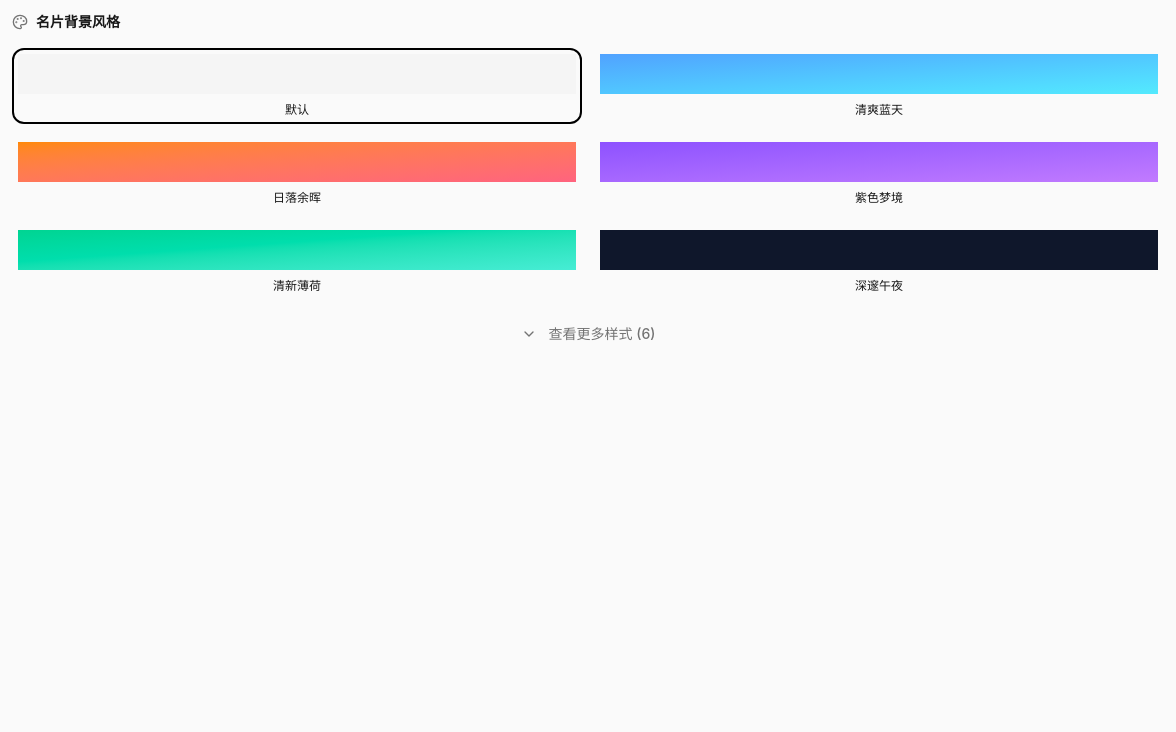
Test: ProfileStylePicker › expands the remaining visual styles
Click the button "查看更多样式 (6)" at (588, 334), box [12,316,1164,352]
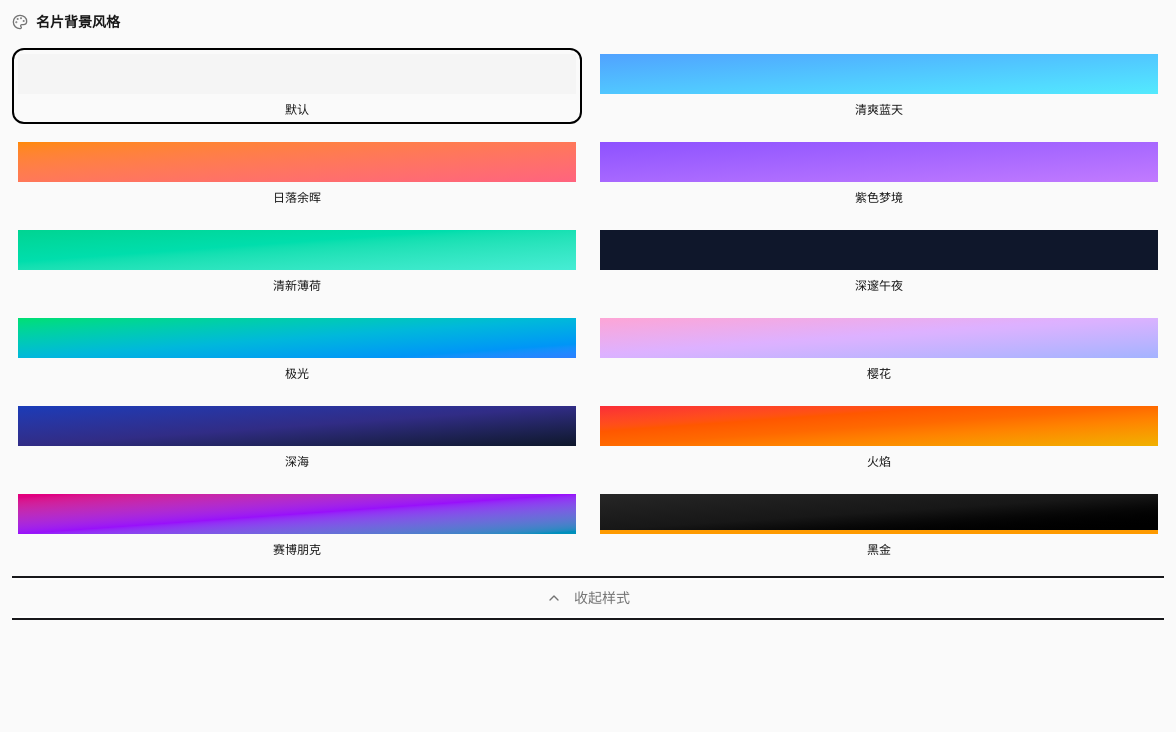
Now the button "收起样式" is shown, box [12,580,1164,616]
